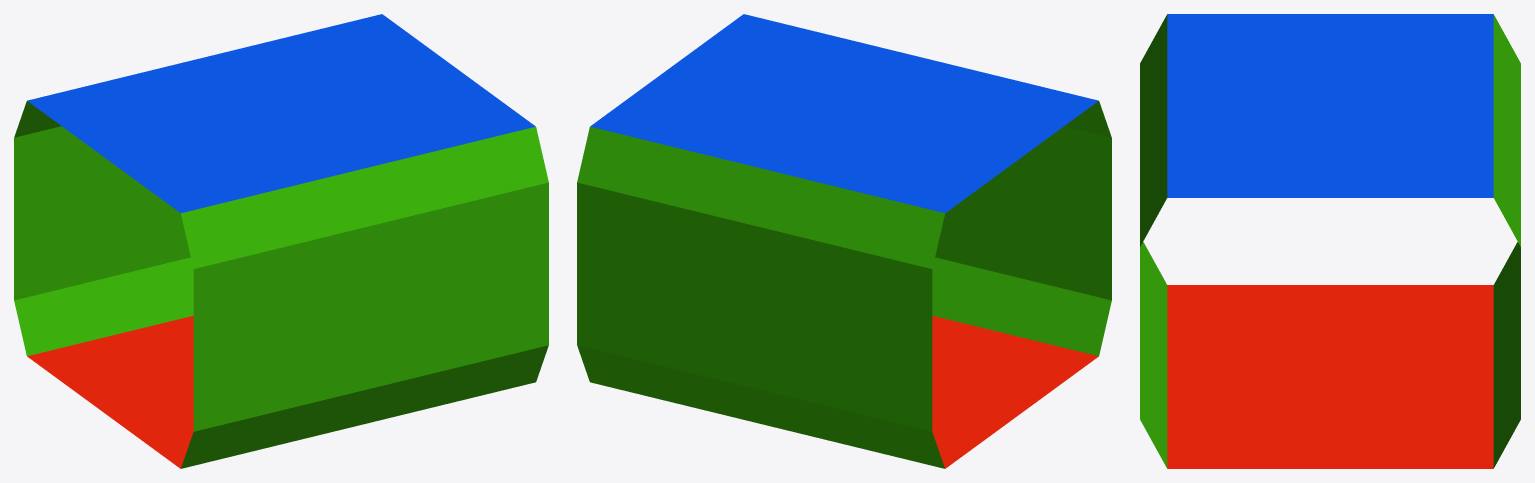
Rendered from straight_hall.FBX.
The picture shows the model from 3 angles, left to right: view 1: azimuth 30°, elevation 25°; view 2: azimuth 150°, elevation 25°; view 3: azimuth 270°, elevation 25°; orthographic projection. The views are drawn at different scales.
Visible parts, largest first — view 1: Plane002; view 2: Plane002; view 3: Plane002.
Part boxes in pixels (box(x1,y1,x2,y2)): Plane002: box(14, 14, 548, 468); Plane002: box(577, 14, 1111, 468); Plane002: box(1140, 14, 1520, 468).
Size of the model in its own units: 157 by 108 by 138.
